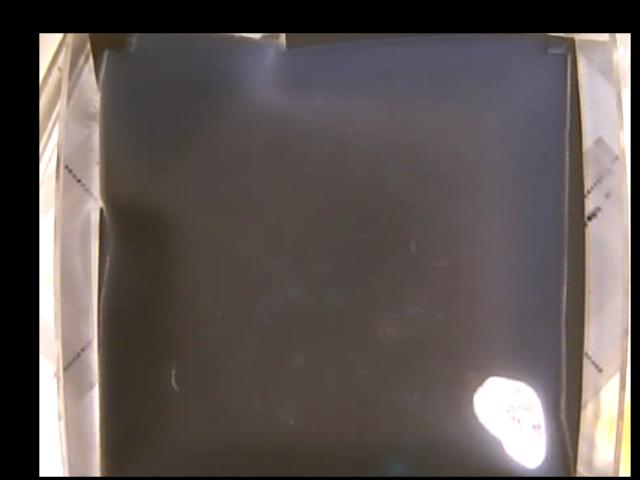Pebble: (472, 376, 546, 473)
